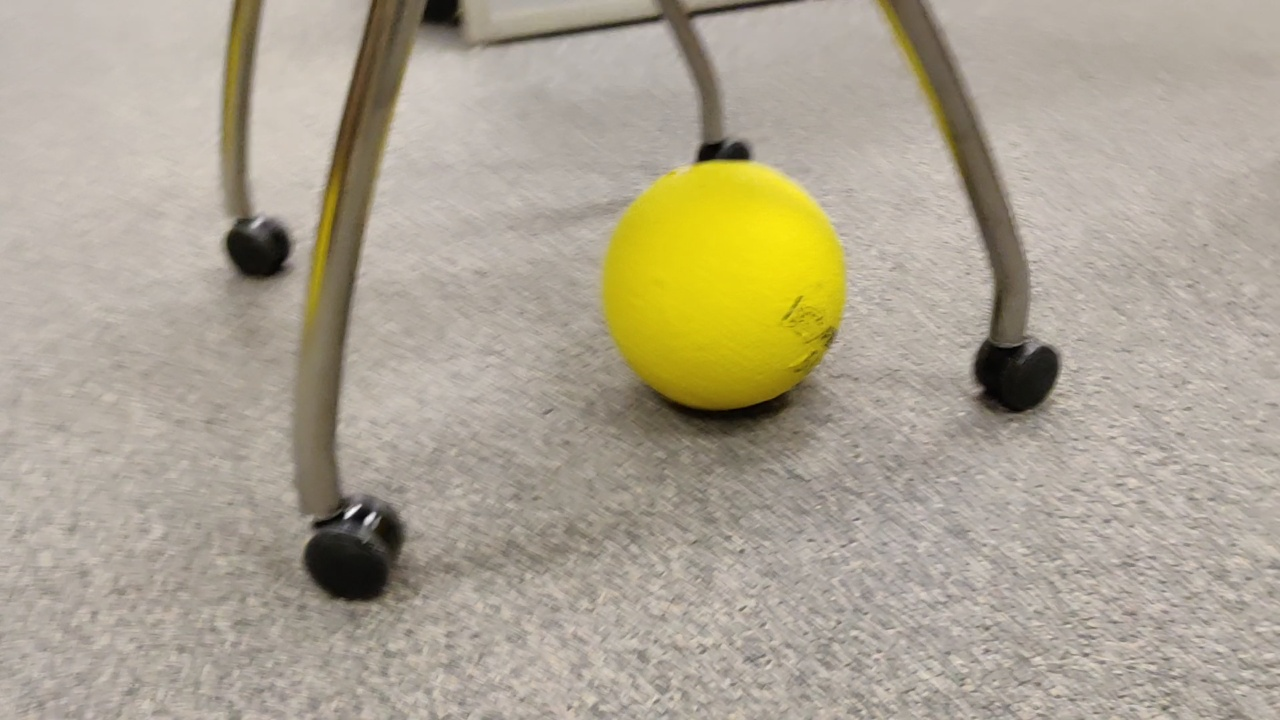Ball: (602, 159, 843, 421)
